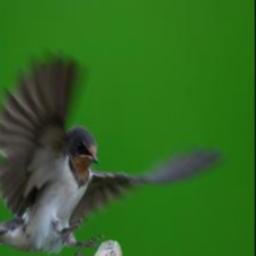Swallow: (0, 49, 222, 256)
